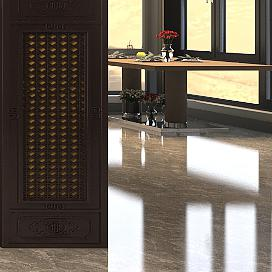table: (108, 51, 272, 141)
